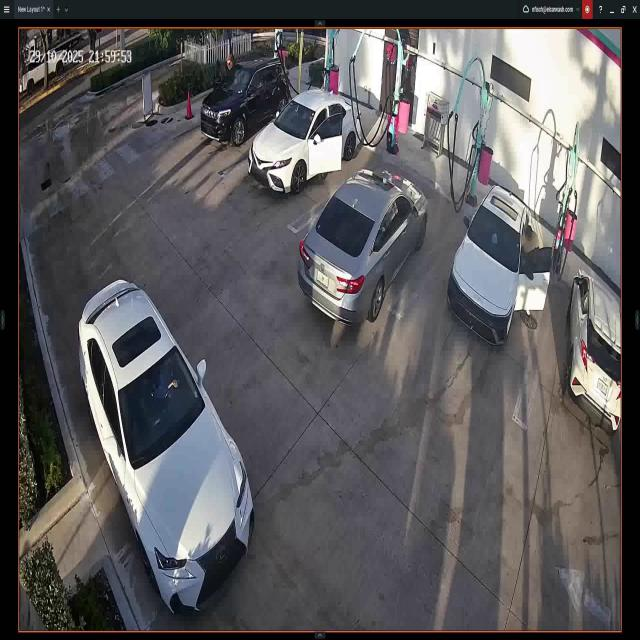Car: (79, 277, 254, 614), (298, 168, 426, 322), (448, 187, 552, 345), (251, 90, 360, 193), (570, 272, 621, 438), (202, 57, 292, 146)
